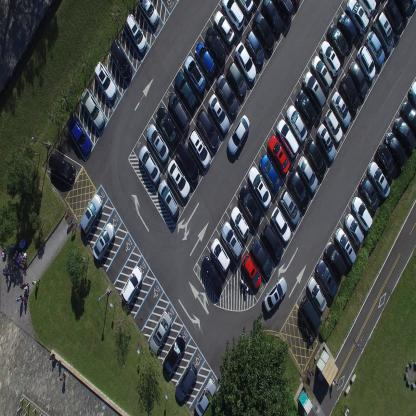car: (80, 87, 105, 130), (238, 183, 262, 227), (175, 140, 199, 184), (148, 310, 172, 354), (162, 334, 186, 378), (174, 70, 198, 113), (79, 192, 103, 235), (248, 165, 271, 209), (227, 113, 250, 157), (156, 105, 179, 149), (167, 158, 191, 200), (93, 60, 117, 102), (383, 131, 408, 171), (67, 115, 92, 155), (109, 38, 132, 81), (302, 70, 326, 111), (216, 73, 238, 117), (200, 254, 223, 296), (207, 92, 230, 134), (167, 90, 190, 132), (174, 362, 198, 402), (372, 11, 394, 54), (276, 118, 299, 159), (250, 237, 273, 278), (220, 219, 243, 260), (252, 9, 275, 50), (196, 107, 219, 148), (183, 54, 206, 95), (120, 265, 143, 306), (268, 134, 290, 176), (367, 160, 390, 200), (146, 122, 169, 162), (188, 128, 211, 168), (92, 222, 115, 262), (263, 276, 287, 314), (392, 116, 416, 154), (300, 294, 322, 335), (334, 226, 356, 267), (288, 168, 310, 209), (125, 12, 147, 53), (315, 259, 338, 298), (310, 54, 333, 93), (285, 104, 308, 143), (235, 41, 256, 83), (304, 137, 326, 177), (259, 154, 281, 194), (204, 25, 226, 65), (194, 40, 216, 80), (138, 144, 160, 184), (158, 178, 180, 218), (324, 240, 347, 278), (48, 152, 76, 183), (382, 0, 404, 39), (262, 221, 284, 260), (226, 59, 247, 99), (213, 8, 235, 46), (194, 378, 216, 416), (318, 40, 340, 77), (330, 91, 351, 129), (297, 155, 318, 193), (350, 196, 372, 232), (346, 0, 369, 34), (348, 59, 368, 98), (340, 73, 360, 112), (316, 123, 336, 162), (358, 175, 379, 212), (295, 88, 316, 125), (376, 143, 396, 181), (271, 205, 291, 243), (210, 237, 231, 273), (261, 0, 283, 34), (306, 275, 326, 312), (344, 211, 364, 248), (365, 30, 385, 67), (280, 188, 300, 225), (242, 252, 262, 289), (327, 23, 348, 58), (245, 30, 265, 66), (221, 0, 244, 31), (357, 45, 376, 81), (230, 206, 250, 240), (324, 108, 343, 143), (136, 0, 160, 27), (338, 10, 356, 44), (400, 100, 416, 138), (271, 0, 294, 23), (395, 0, 412, 23), (356, 0, 377, 17), (408, 79, 416, 111), (236, 0, 253, 14), (291, 0, 302, 8)
